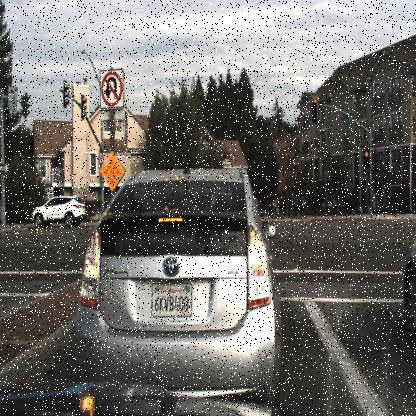car: (75, 168, 282, 398), (388, 204, 415, 352), (30, 193, 86, 230), (265, 190, 296, 222), (319, 190, 346, 219)
trafficLight-Red: (308, 96, 318, 130), (362, 144, 372, 170)
